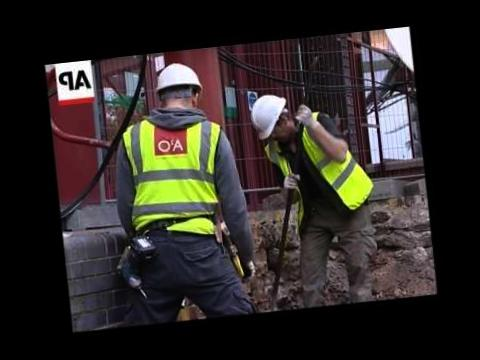helmet: (144, 58, 205, 102), (250, 92, 292, 146)
person: (94, 55, 264, 330), (248, 85, 373, 292)
